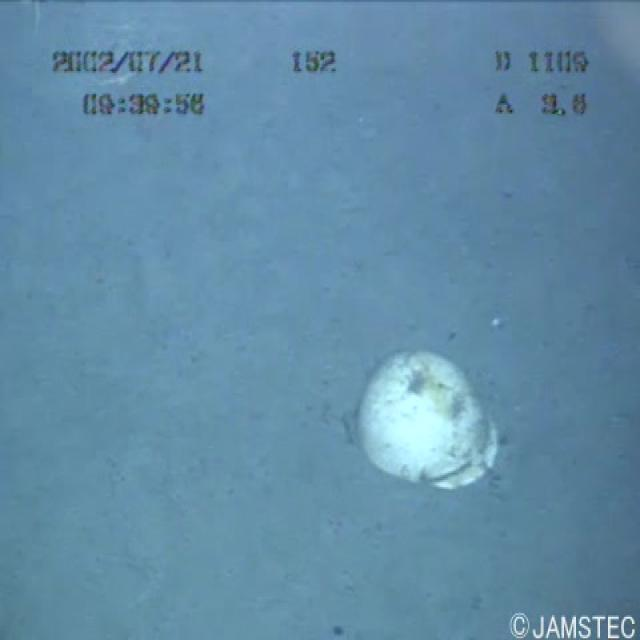plastic: (329, 332, 527, 494)
